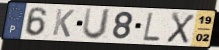6: (24, 6, 50, 38)
8: (111, 10, 135, 41)
K: (51, 7, 76, 38)
L: (142, 11, 161, 43)
U: (80, 7, 113, 41)
X: (165, 11, 196, 45)
